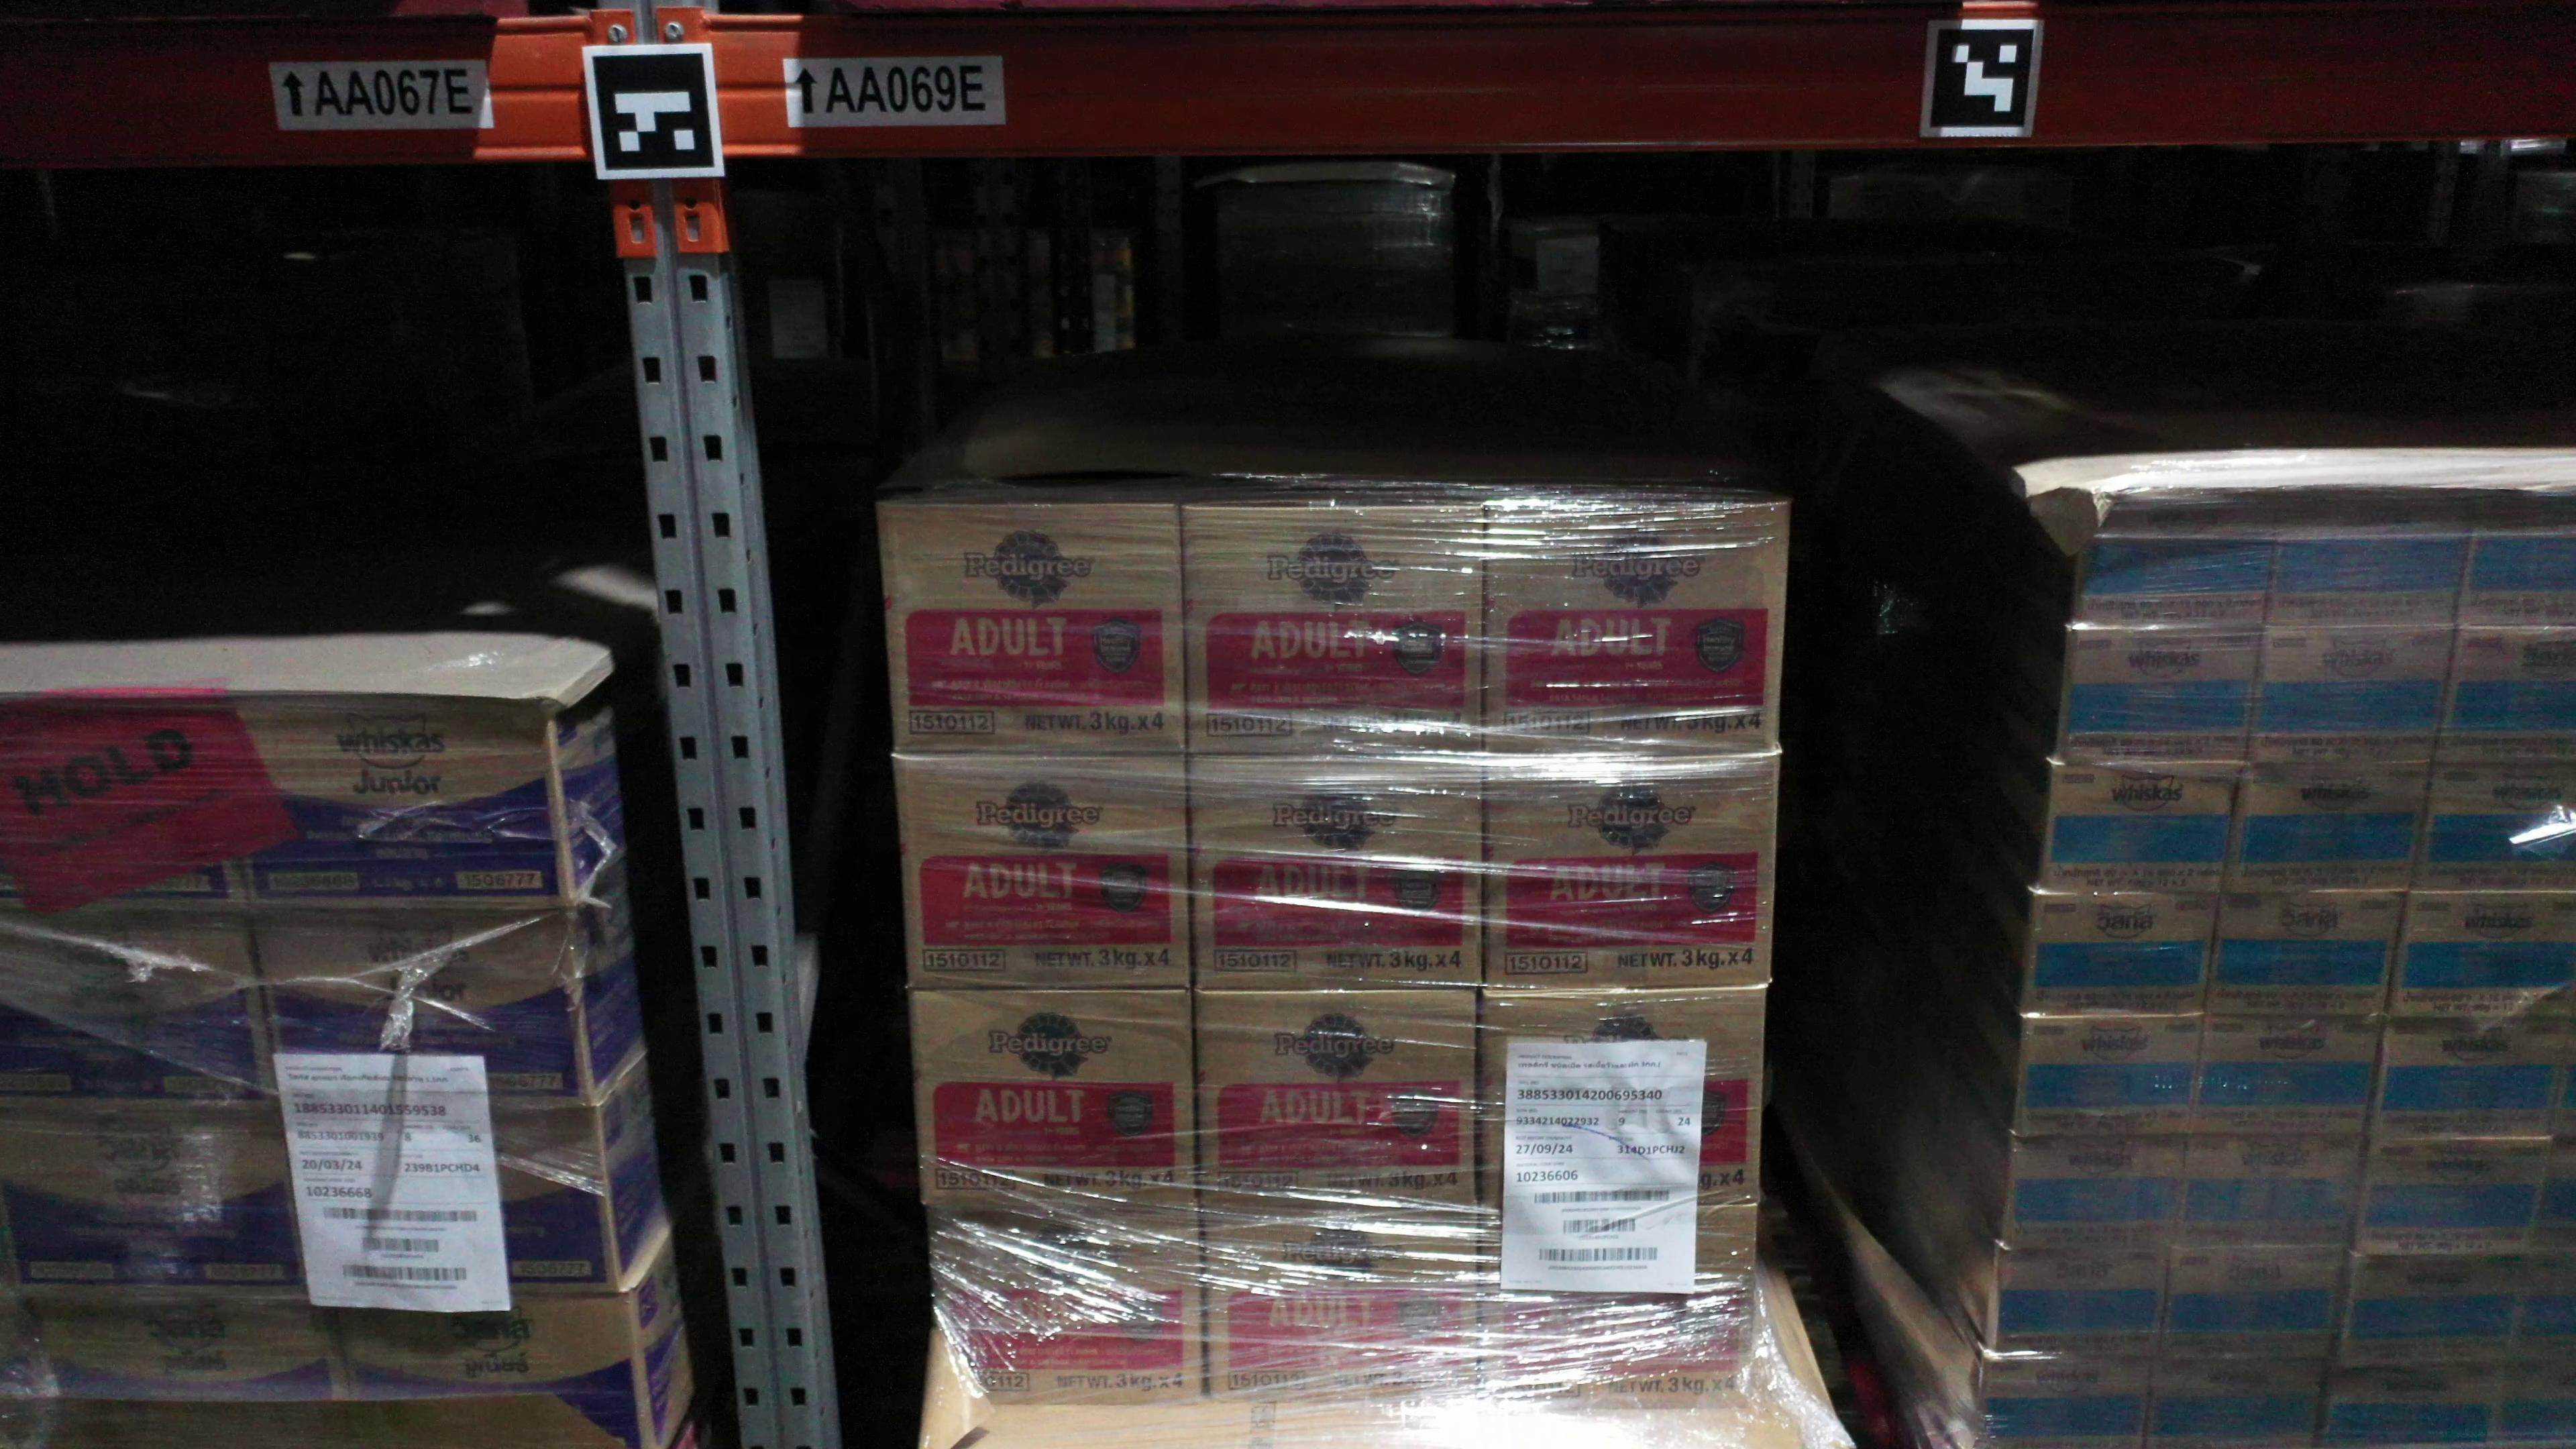-: (212, 692, 577, 913), (1484, 501, 1787, 763), (881, 502, 1187, 757), (1180, 502, 1483, 755), (1483, 752, 1782, 1000), (897, 752, 1194, 991), (1187, 752, 1481, 993), (248, 913, 591, 1111), (1194, 985, 1481, 1214), (285, 1108, 619, 1302), (915, 989, 1198, 1217), (1476, 984, 1762, 1205), (0, 1118, 324, 1306), (5, 915, 287, 1113), (0, 688, 244, 916), (1483, 1205, 1753, 1408), (1208, 1210, 1481, 1408), (932, 1214, 1201, 1412), (333, 1295, 655, 1449), (19, 1302, 349, 1407), (2265, 485, 2480, 628), (2240, 625, 2457, 764), (2074, 485, 2282, 630), (2056, 626, 2263, 764), (2220, 761, 2431, 892), (2042, 761, 2245, 895), (2201, 890, 2408, 1019), (2348, 1134, 2553, 1261), (2365, 1016, 2571, 1141), (2387, 886, 2576, 1019), (2189, 1016, 2387, 1141), (2022, 892, 2217, 1019), (2010, 1014, 2201, 1141), (2178, 1134, 2371, 1254), (2001, 1136, 2196, 1253), (2410, 755, 2576, 892), (2160, 1244, 2348, 1364), (2337, 1253, 2525, 1373), (1989, 1247, 2174, 1359), (2434, 621, 2576, 763), (1974, 1353, 2153, 1449), (2457, 488, 2576, 628), (2146, 1355, 2321, 1449), (2319, 1362, 2502, 1442), (2491, 1355, 2576, 1442), (2509, 1251, 2576, 1355)
